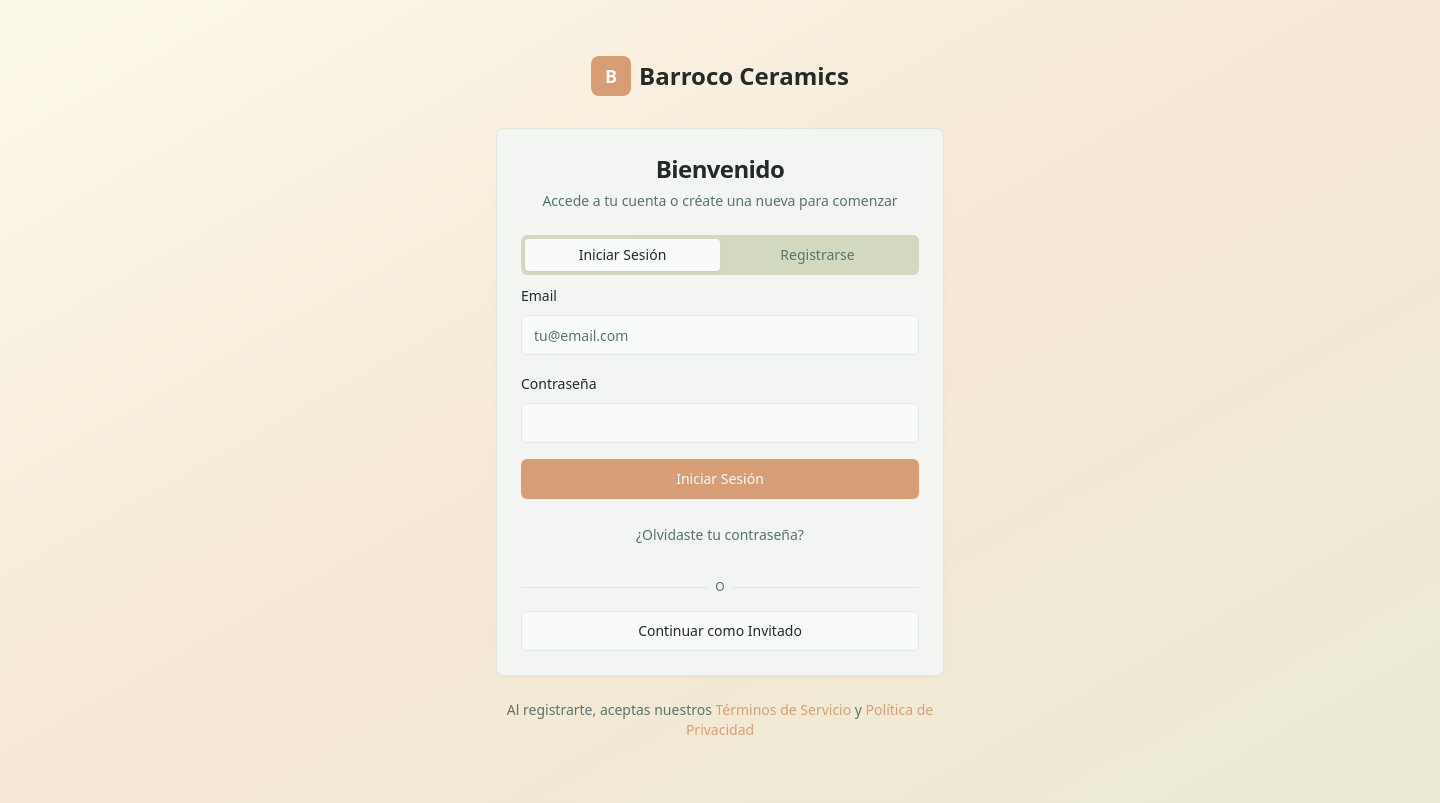
Auth Page › cambia a la pestaña de registro
Click the tab "Registrarse" at (818, 255), box [720,239,915,271]
(page scrolled)
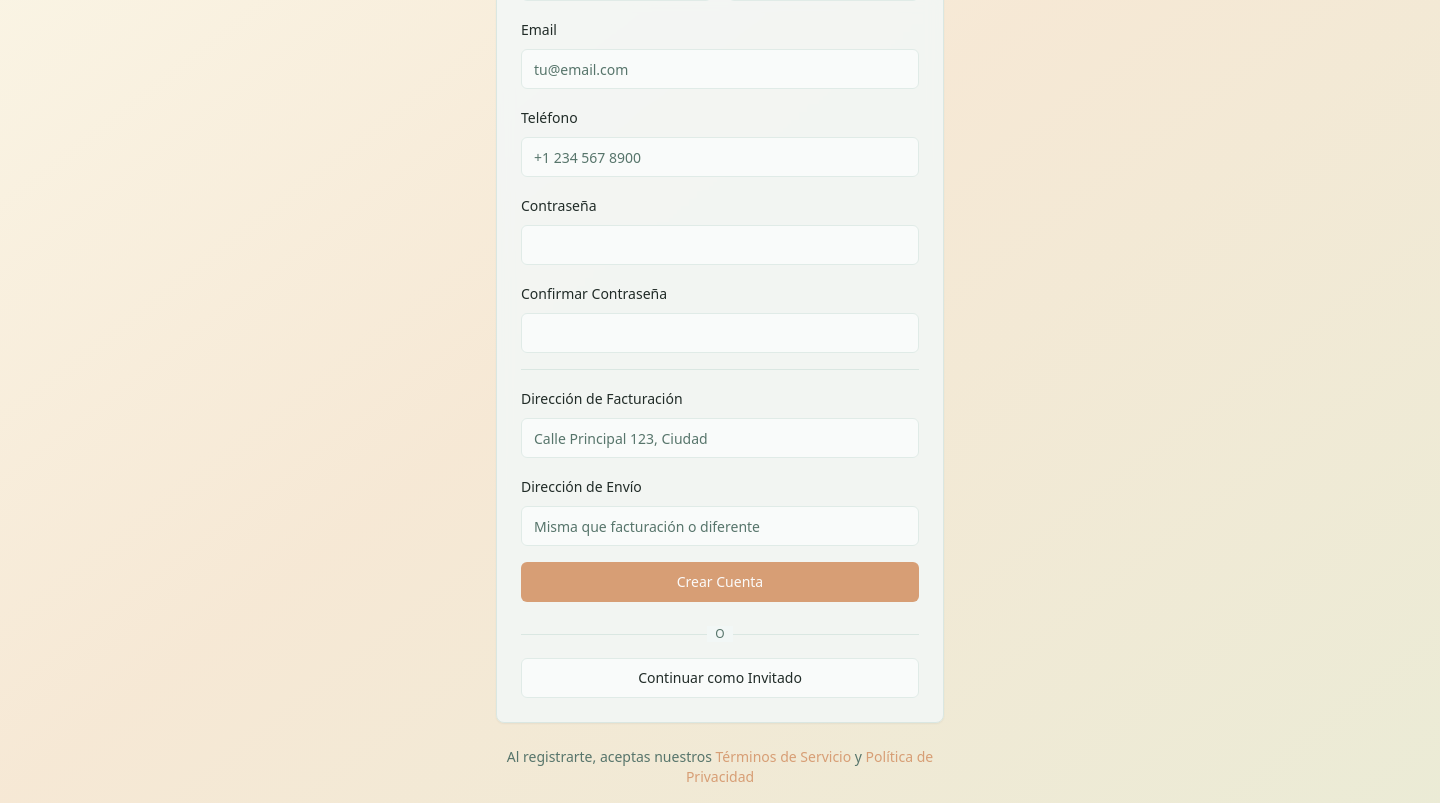
Expected: the button "Crear Cuenta" is shown, [521,562,919,602]
